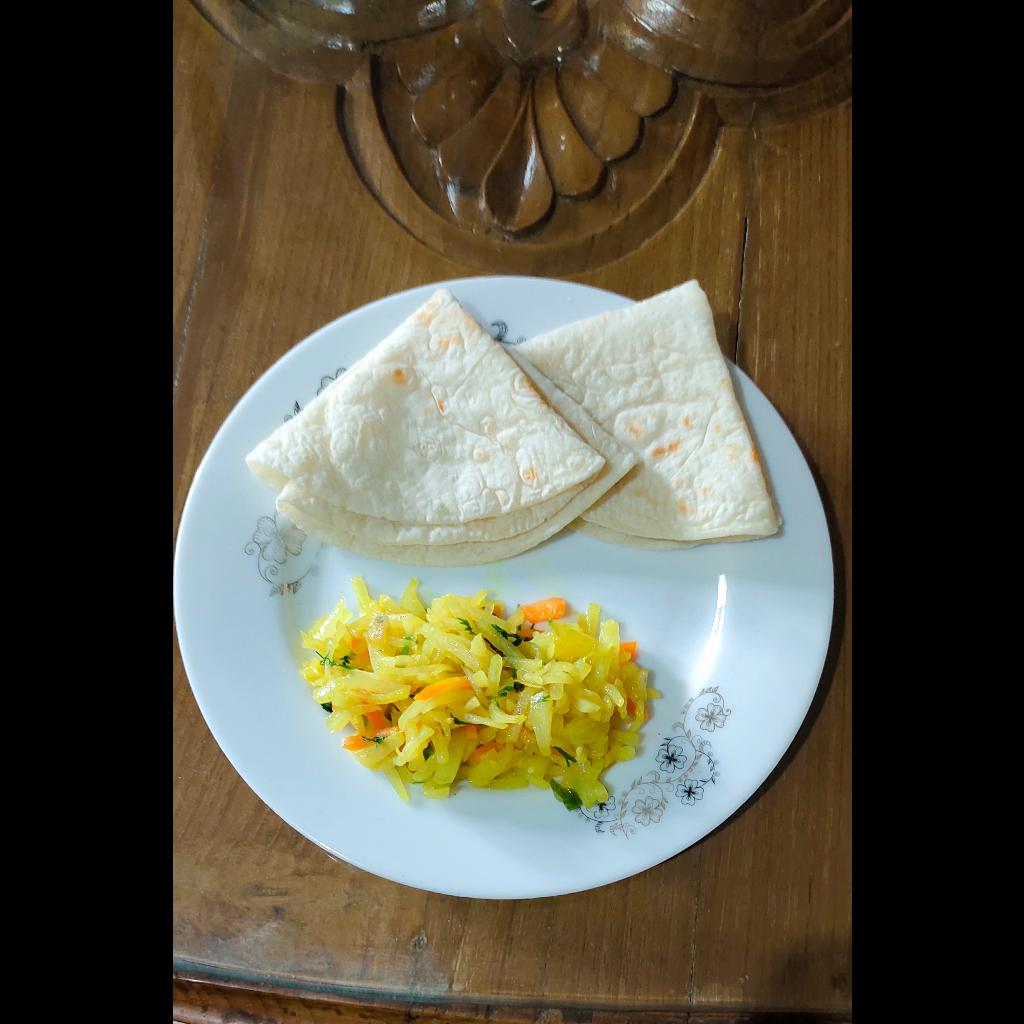ruti: (239, 267, 782, 570)
vaji: (300, 567, 654, 824)
